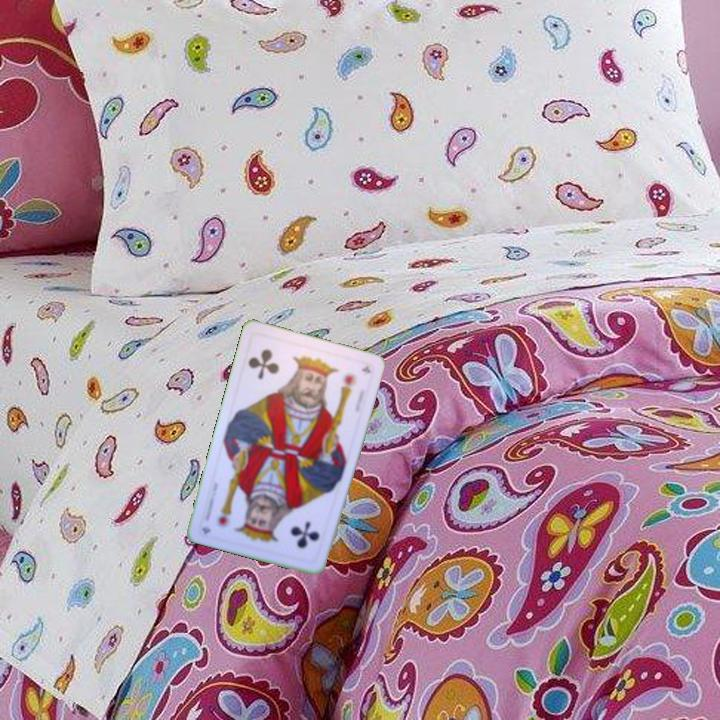c_k.png: (237, 329, 316, 402), (255, 494, 334, 566)
